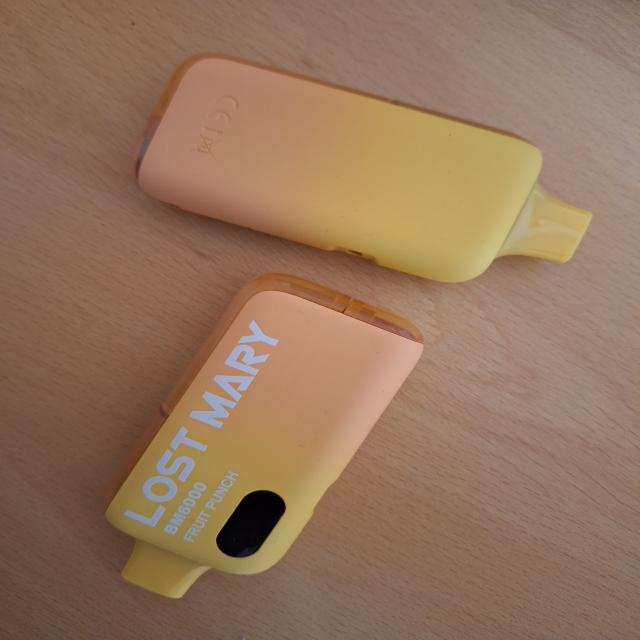Hazard: (132, 51, 594, 284), (102, 271, 425, 599)
